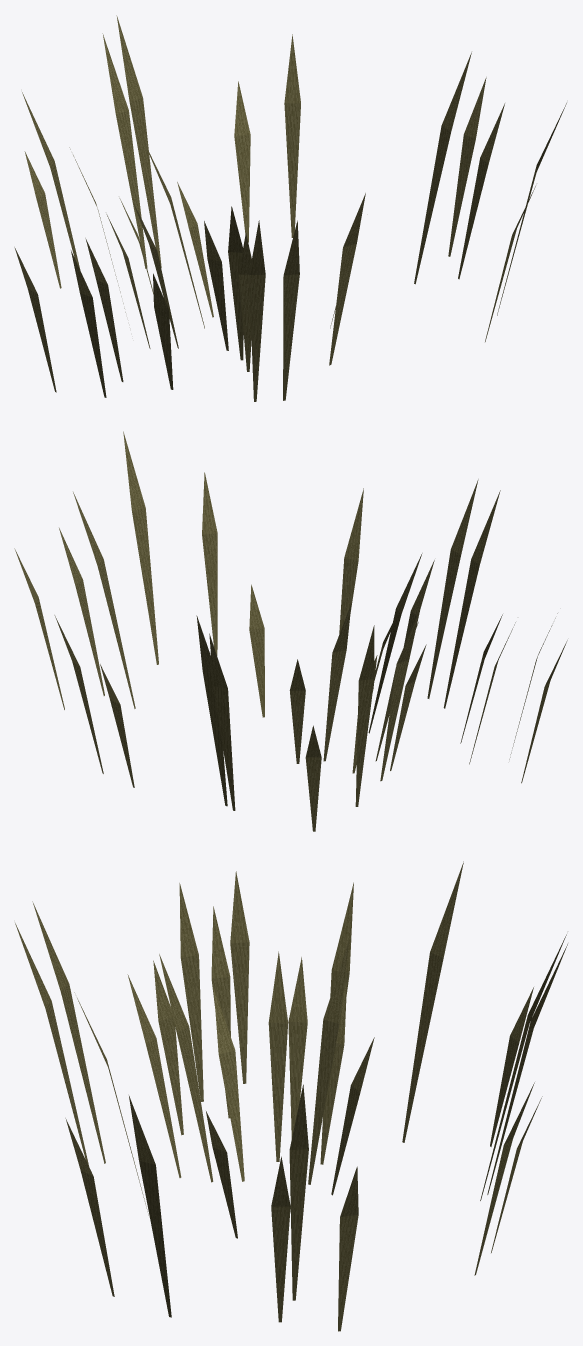
File: env_ground_02_grass_medium.glb
3 renders of one model, top to bottom at view 1: azimuth 30°, elevation 25°; view 2: azimuth 150°, elevation 25°; view 3: azimuth 270°, elevation 25°, orthographic. The views are drawn at different scales.
Parts seen in each view (by area): view 1: foliage; view 2: foliage; view 3: foliage.
Boxes of the visible parts, x1=… form: foliage: x1=14, y1=15, x2=566, y2=401; foliage: x1=14, y1=431, x2=567, y2=831; foliage: x1=15, y1=861, x2=567, y2=1331.
Bounding box in the file's own units: 0.797 × 0.3313 × 0.6248.
1 material, 1 textured.
